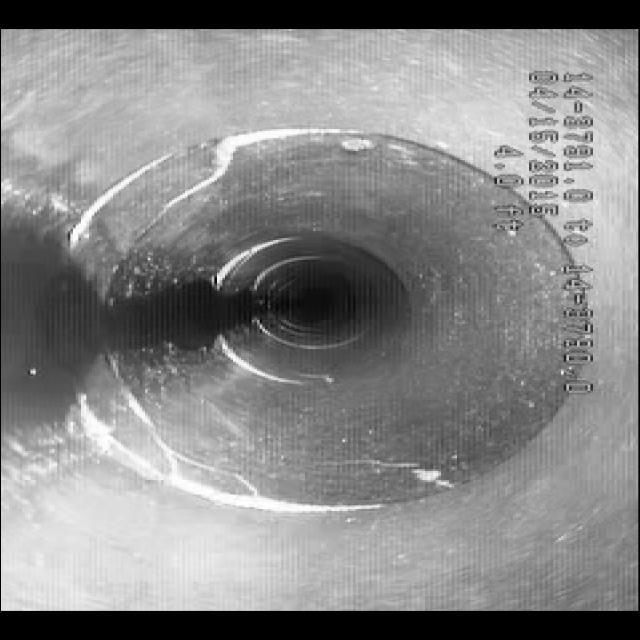Crack: (140, 139, 288, 236)
